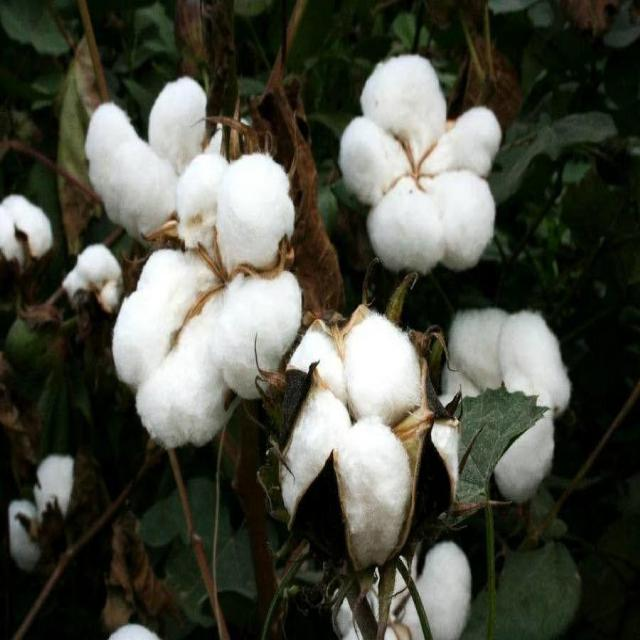Early_blight: (95, 133, 313, 477), (264, 295, 435, 577), (338, 50, 503, 275), (427, 300, 587, 528), (82, 80, 209, 243)
